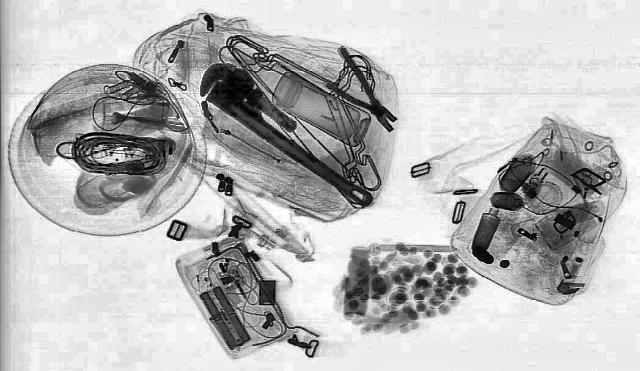Pliers: (296, 47, 422, 135)
Wrench: (173, 58, 404, 212)
